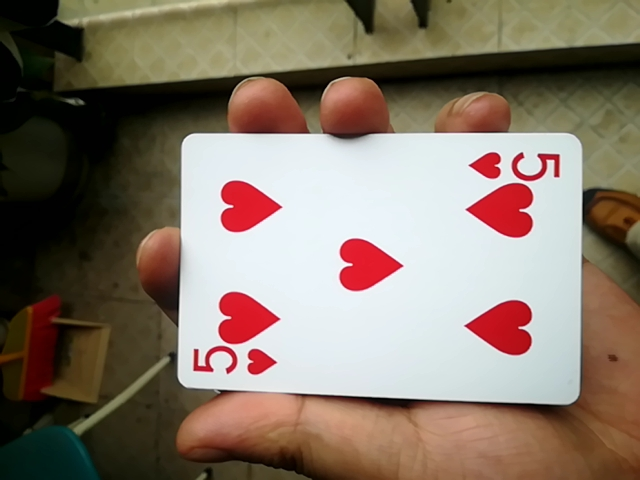hx 5: (160, 128, 578, 408)
